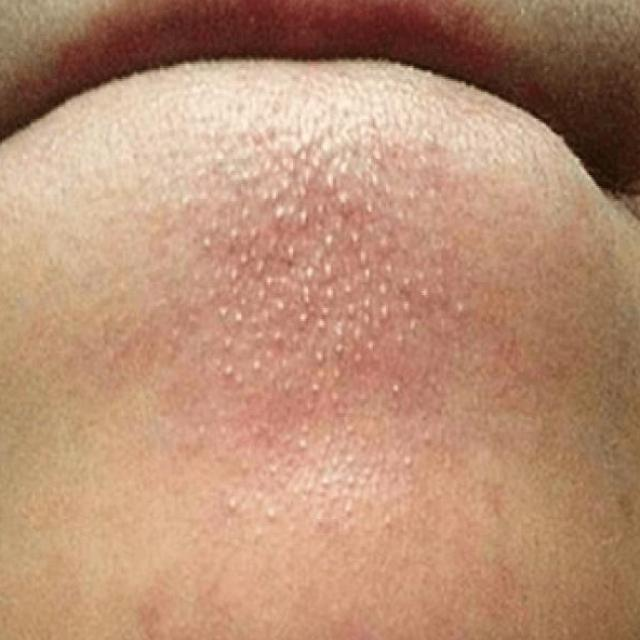whitehead: (136, 116, 487, 486)
